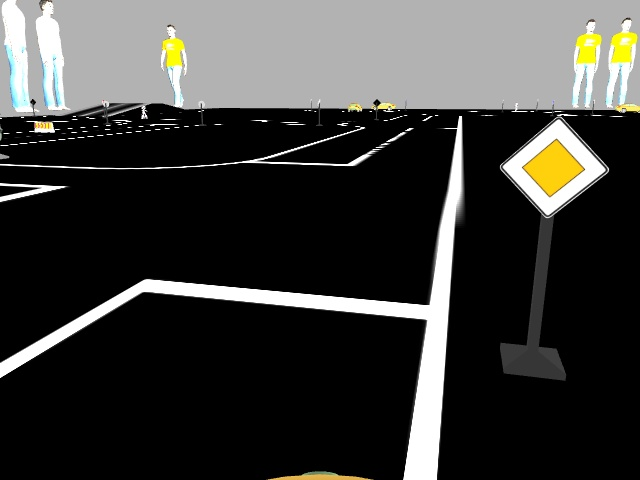ClosedRoadStand: (33, 120, 53, 132)
Priority: (506, 118, 602, 209)
